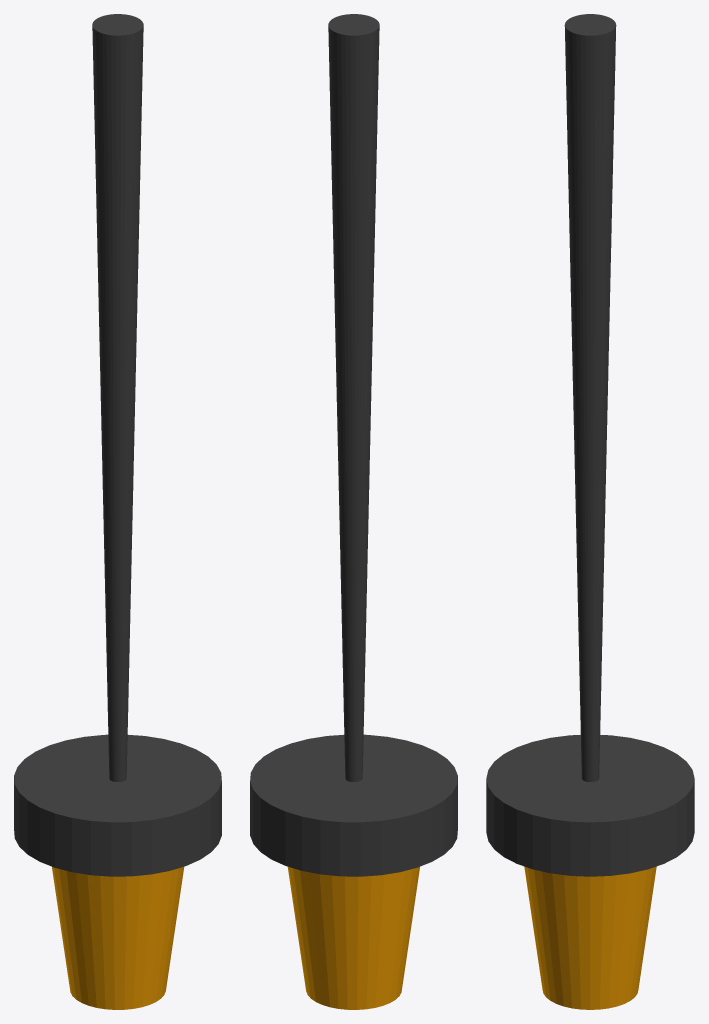
File: lampa.fbx
3 views of the same model, side by side, from view 1: azimuth 30°, elevation 25°; view 2: azimuth 150°, elevation 25°; view 3: azimuth 270°, elevation 25° (orthographic).
Parts seen in each view (by area): view 1: Cylinder; view 2: Cylinder; view 3: Cylinder.
Part boxes in pixels (left/top/right/bottom): Cylinder: left=14, top=14, right=221, bottom=1009; Cylinder: left=250, top=14, right=457, bottom=1009; Cylinder: left=486, top=14, right=694, bottom=1009.
Size of the model in its own units: 6.4 by 32.7 by 6.4.
